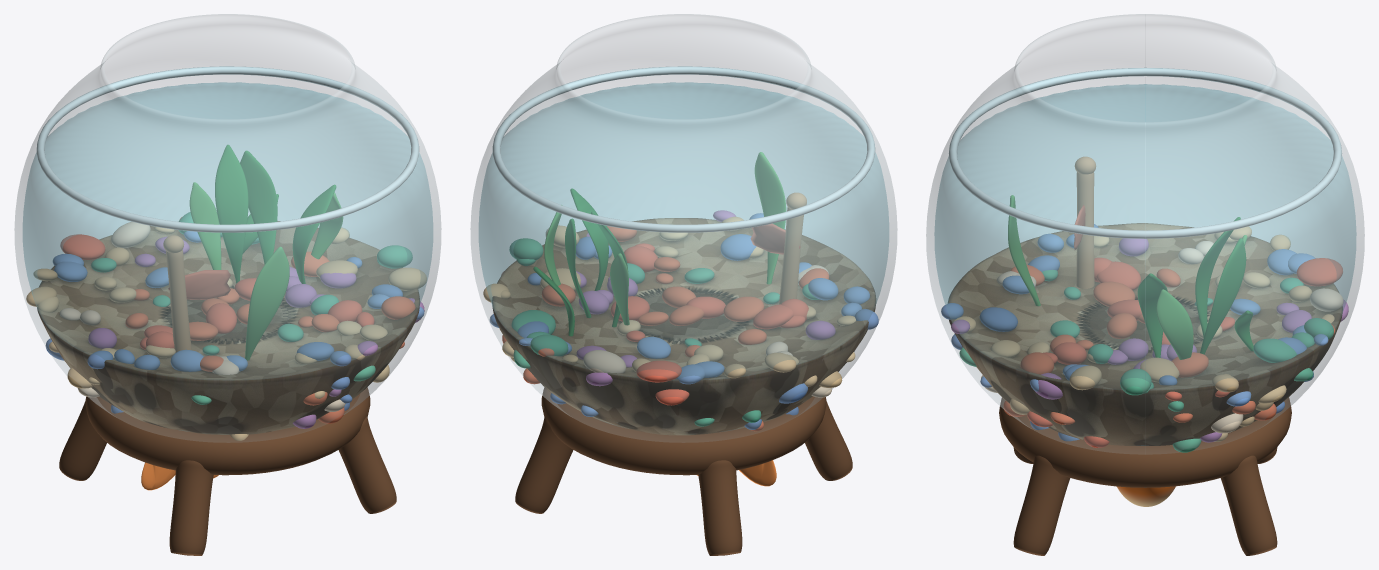
File: bowl_fish.glb
3 views of the same model, side by side, from view 1: azimuth 30°, elevation 25°; view 2: azimuth 150°, elevation 25°; view 3: azimuth 270°, elevation 25° (orthographic). The views are drawn at different scales.
Visible parts, largest first — view 1: ENV_bowl_glass, ENV_bowl_water, PRP_gravel, PRP_pebbles, PRP_stand, PRP_plants, ENV_waterline, PRP_memorial, HERO_fish_tail; view 2: ENV_bowl_glass, ENV_bowl_water, PRP_gravel, PRP_pebbles, PRP_stand, ENV_waterline, PRP_plants, PRP_memorial, HERO_fish_tail; view 3: ENV_bowl_glass, ENV_bowl_water, PRP_gravel, PRP_pebbles, PRP_stand, ENV_waterline, PRP_plants, PRP_memorial, HERO_fish_body.
Boxes of the visible parts, bbox=[...] form: ENV_bowl_glass: bbox=[14, 14, 441, 442]; ENV_bowl_water: bbox=[23, 82, 432, 380]; PRP_gravel: bbox=[37, 221, 419, 434]; PRP_pebbles: bbox=[26, 212, 426, 440]; PRP_stand: bbox=[59, 387, 396, 555]; PRP_plants: bbox=[189, 145, 343, 360]; ENV_waterline: bbox=[36, 66, 419, 232]; PRP_memorial: bbox=[163, 235, 230, 352]; HERO_fish_tail: bbox=[141, 462, 175, 490]; ENV_bowl_glass: bbox=[470, 14, 897, 442]; ENV_bowl_water: bbox=[479, 82, 888, 429]; PRP_gravel: bbox=[492, 218, 875, 435]; PRP_pebbles: bbox=[483, 210, 878, 431]; PRP_stand: bbox=[515, 387, 852, 555]; ENV_waterline: bbox=[492, 66, 875, 232]; PRP_plants: bbox=[533, 152, 786, 336]; PRP_memorial: bbox=[750, 192, 806, 304]; HERO_fish_tail: bbox=[739, 460, 776, 486]; ENV_bowl_glass: bbox=[926, 14, 1364, 454]; ENV_bowl_water: bbox=[934, 84, 1356, 445]; PRP_gravel: bbox=[948, 223, 1342, 445]; PRP_pebbles: bbox=[941, 224, 1348, 452]; PRP_stand: bbox=[999, 397, 1291, 555]; ENV_waterline: bbox=[948, 67, 1342, 238]; PRP_plants: bbox=[1008, 195, 1253, 359]; PRP_memorial: bbox=[1074, 156, 1095, 288]; HERO_fish_body: bbox=[1117, 486, 1175, 506].
Size of the model in its own units: 0.2306 by 0.2548 by 0.2306.
Materials: 13 (1 with a texture image).
